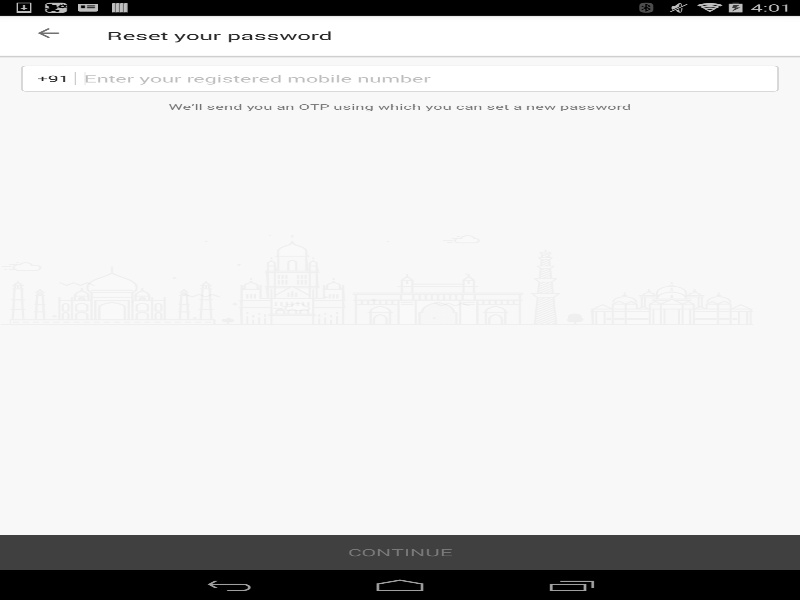Button: (400, 535, 799, 570), (0, 535, 398, 570), (10, 13, 85, 53)
Input: (76, 68, 768, 89), (42, 82, 757, 102), (42, 116, 757, 136)
